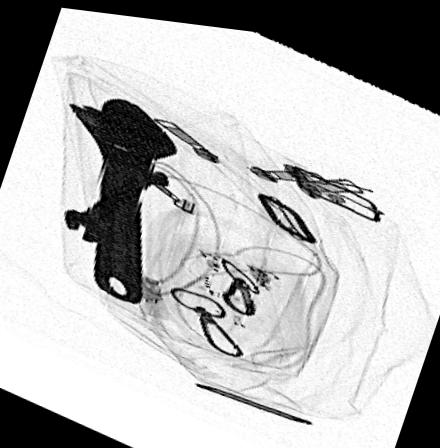Wrench: (70, 92, 181, 301), (63, 150, 170, 240)
